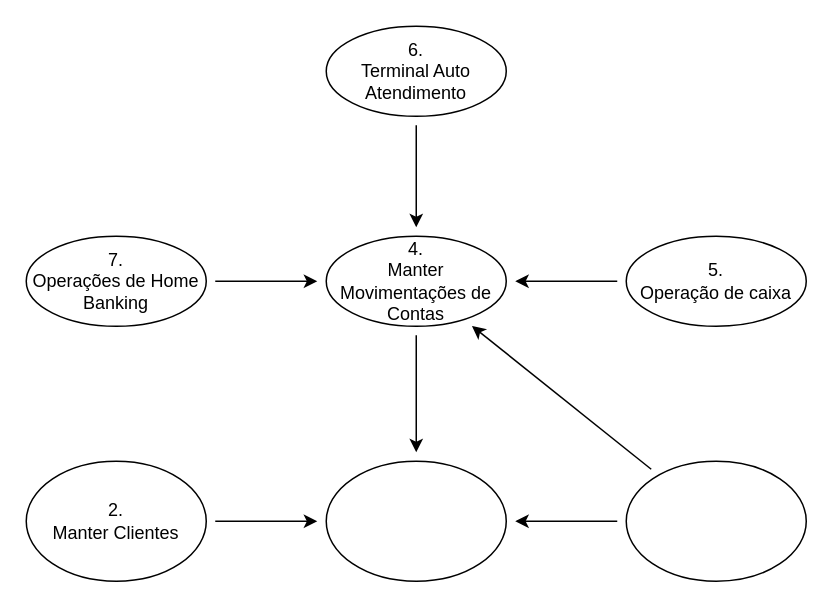
Image size: 833x608. Some labels were removed from this diagram. Each missing label, with the centre of its shape:
"1. Controle de Contas Bancarias" goes at point 415,520.
"3. Manter Contas" goes at point 715,520.
